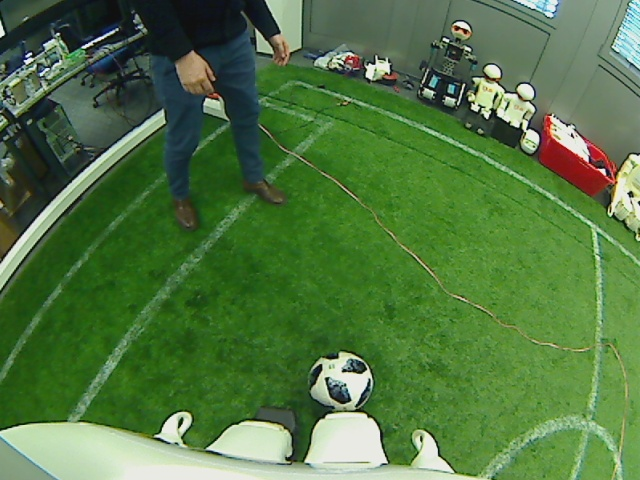ball: (305, 349, 375, 413)
